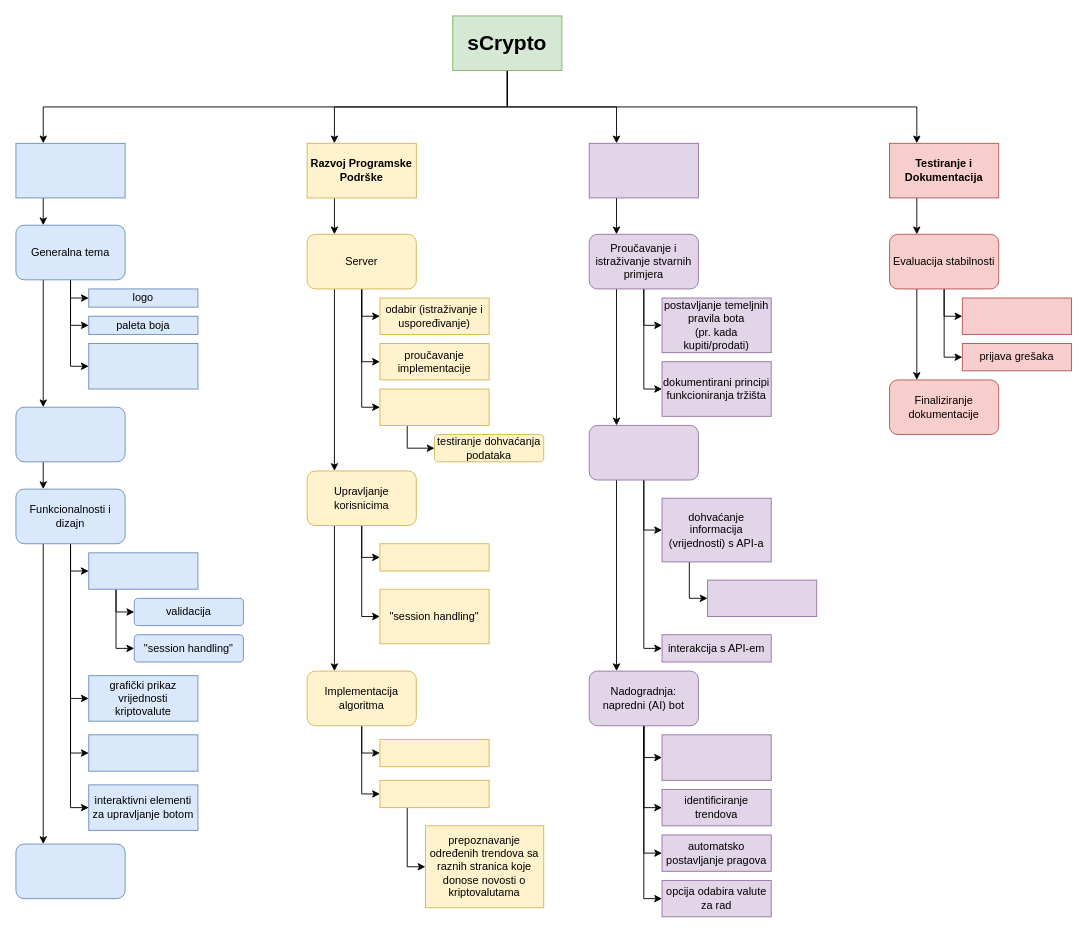
This 1087x933 diagram has some shape labels left out. Here are the shapes that lost their labels. From the top down, the centre of each, then its label:
the point at 70,170: Grafičko Sučelje
the point at 643,170: Razvoj Algoritma
the point at 1016,315: otpornost na stres
the point at 143,366: standardi dizajna (izgled ponavljajućih komponenti)
the point at 434,406: API
the point at 70,434: Povezivanje s botom
the point at 643,452: Testiranje osnovnih funkcionalnosti bota
the point at 143,570: dizajn prijave / registracije
the point at 434,557: prijava / registracija
the point at 762,598: Pomoću web-socket-a i async zahtjeva
the point at 143,752: prikaz log datoteka korisnika
the point at 434,752: jednostavan bot
the point at 716,757: baza podataka (API log files)
the point at 434,793: nadogradnja : napredni (AI) bot
the point at 70,871: "Polishing" (finaliziranje)
